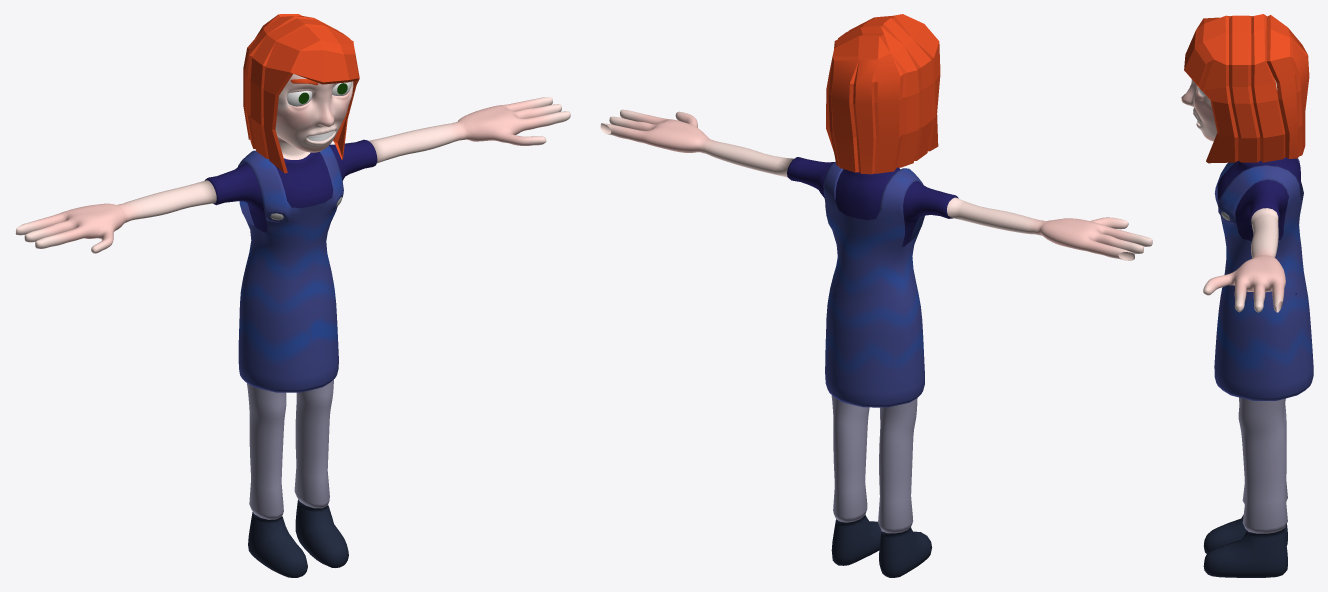
Rendered from FEMALE.obj.
3 renders of one model, left to right at view 1: azimuth 30°, elevation 25°; view 2: azimuth 150°, elevation 25°; view 3: azimuth 270°, elevation 25°, orthographic.
Visible parts, largest first — view 1: Body001, Cylinder001, Plane001; view 2: Body001, Cylinder001, Plane001; view 3: Body001, Plane001, Cylinder001.
Part boxes in pixels (x1,y1,x2,y2): Body001: (15, 74, 570, 577); Cylinder001: (238, 146, 343, 392); Plane001: (243, 14, 359, 173); Body001: (600, 109, 1152, 577); Cylinder001: (823, 161, 924, 407); Plane001: (826, 14, 940, 174); Body001: (1181, 79, 1300, 577); Plane001: (1184, 14, 1309, 163); Cylinder001: (1214, 158, 1313, 400).
Bounding box in the file's own units: 3917 × 3764 × 824.
Materials: 6 (2 with a texture image).
